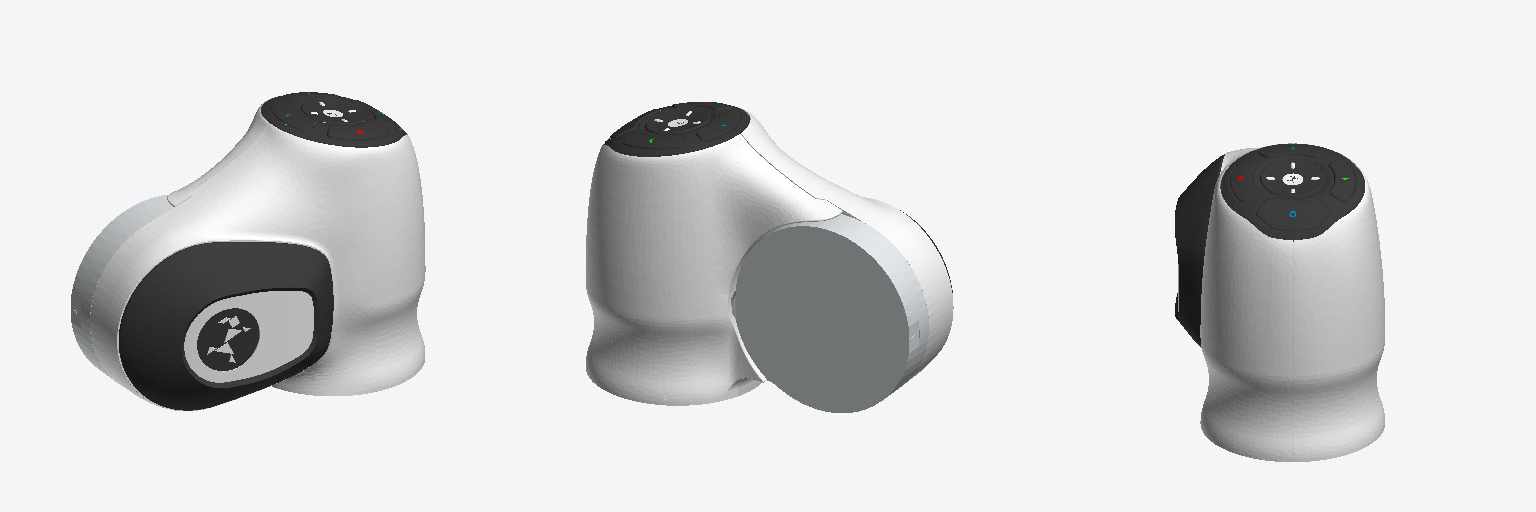
3 views of the same model, side by side, from view 1: azimuth 30°, elevation 25°; view 2: azimuth 150°, elevation 25°; view 3: azimuth 270°, elevation 25° (orthographic).
Parts seen in each view (by area): view 1: Shell012_000-mesh, Part__Feature002_002-mesh, Shell006_000-mesh, Shell_002-mesh, Face539_000-mesh, Part__Feature001_002-mesh; view 2: Shell012_000-mesh, Shell006_000-mesh, Shell_002-mesh, Part__Feature001_002-mesh; view 3: Shell012_000-mesh, Shell_002-mesh, Part__Feature002_002-mesh, Part__Feature001_002-mesh, Shell007_000-mesh.
Part boxes in pixels (x1,y1,x2,y2): Shell012_000-mesh: (90, 97, 425, 410); Part__Feature002_002-mesh: (119, 242, 333, 410); Shell006_000-mesh: (71, 195, 276, 387); Shell_002-mesh: (270, 92, 400, 138); Face539_000-mesh: (197, 308, 258, 370); Part__Feature001_002-mesh: (262, 96, 406, 146); Shell012_000-mesh: (586, 108, 953, 405); Shell006_000-mesh: (735, 214, 928, 412); Shell_002-mesh: (610, 102, 740, 148); Part__Feature001_002-mesh: (605, 105, 749, 155); Shell012_000-mesh: (1178, 143, 1384, 461); Shell_002-mesh: (1230, 145, 1355, 230); Part__Feature002_002-mesh: (1175, 154, 1224, 347); Part__Feature001_002-mesh: (1221, 144, 1363, 238); Shell007_000-mesh: (1220, 148, 1364, 241).
Bounding box in the file's own units: 0.1799 × 0.1329 × 0.1002.